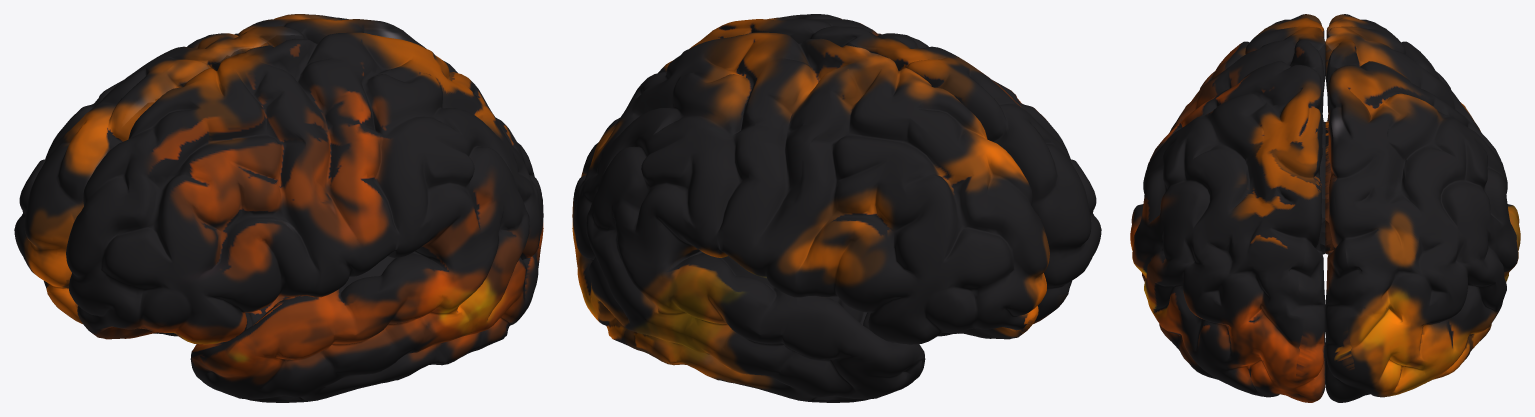
Rendered from brainBothFeetColorComp.glb.
The picture shows the model from 3 angles, left to right: view 1: azimuth 30°, elevation 25°; view 2: azimuth 150°, elevation 25°; view 3: azimuth 270°, elevation 25°; orthographic projection. The views are drawn at different scales.
Visible parts, largest first — view 1: Right, Left; view 2: Left, Right; view 3: Left, Right.
Boxes of the visible parts, box(x1,y1,x2,y2) form: Right: box(66, 32, 543, 402); Left: box(14, 14, 457, 336); Left: box(572, 32, 1049, 402); Right: box(658, 14, 1101, 336); Left: box(1325, 14, 1520, 402); Right: box(1130, 14, 1325, 402).
Bounding box in the file's own units: 1.32 × 0.8372 × 1.06.
2 materials, 2 textured.
